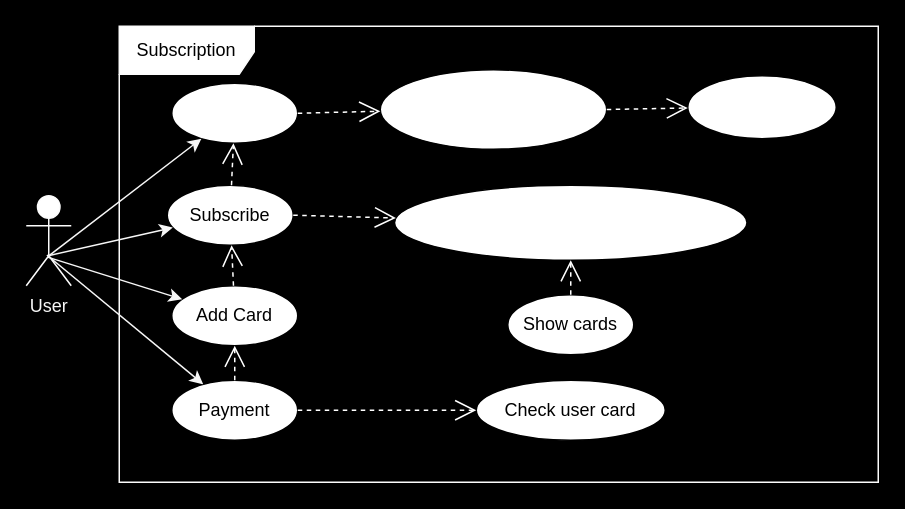
Some shapes in this 905 by 509 pixel diagram are drawn without their labels. Each missing label, with the centre of its shape:
"Check if has cards associated to the account" belongs at pixel 570 222.
"Check if has ever been subscribed" belongs at pixel 493 108.
"Login" belongs at pixel 234 112.
"Show Trial Subscription" belongs at pixel 761 106.
